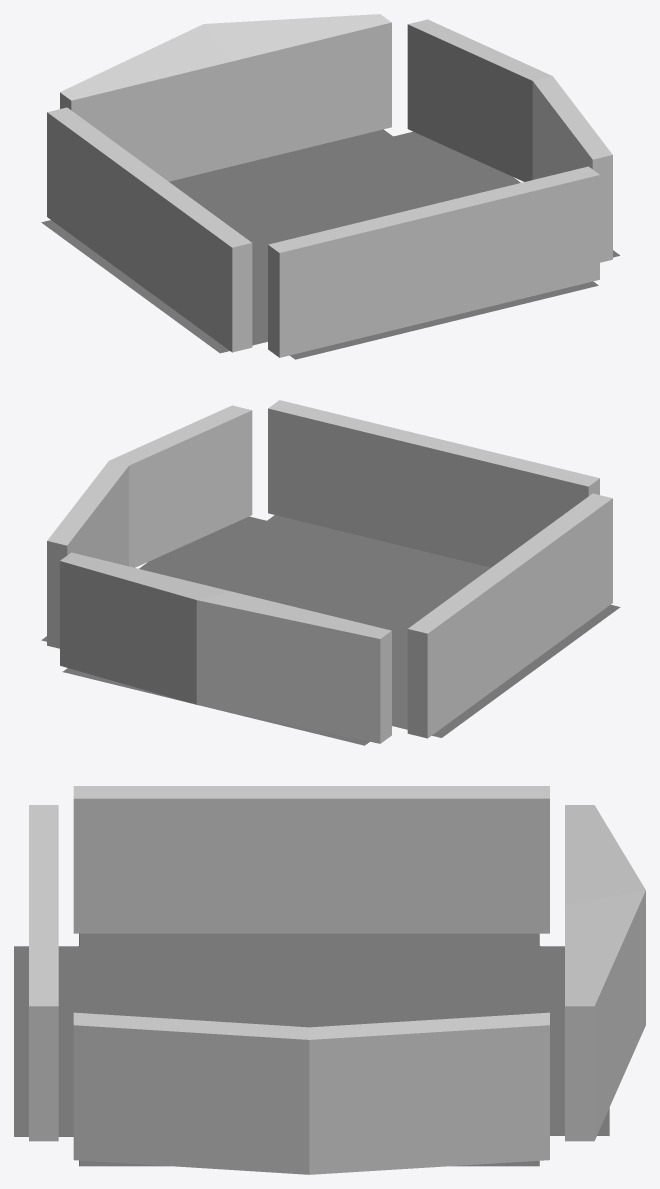
The model's file is room1.fbx.
The picture shows the model from 3 angles, top to bottom: view 1: azimuth 30°, elevation 25°; view 2: azimuth 150°, elevation 25°; view 3: azimuth 270°, elevation 25°; orthographic projection. The views are drawn at different scales.
Visible parts, largest first — view 1: WallS., WallN., Ground, WallW., WallE.; view 2: WallN., WallS., Ground, WallW., WallE.; view 3: WallE., WallW., Ground, WallN., WallS..
Boxes of the visible parts, x1=… form: WallS.: x1=268, y1=166, x2=599, y2=357; WallN.: x1=60, y1=14, x2=391, y2=181; Ground: x1=41, y1=129, x2=619, y2=359; WallW.: x1=47, y1=107, x2=252, y2=352; WallE.: x1=407, y1=19, x2=612, y2=262; WallN.: x1=60, y1=552, x2=391, y2=743; WallS.: x1=268, y1=400, x2=599, y2=567; Ground: x1=41, y1=515, x2=620, y2=745; WallW.: x1=407, y1=493, x2=612, y2=738; WallE.: x1=47, y1=405, x2=252, y2=648; WallE.: x1=73, y1=1012, x2=549, y2=1174; WallW.: x1=73, y1=786, x2=549, y2=933; Ground: x1=14, y1=933, x2=609, y2=1166; WallN.: x1=565, y1=805, x2=645, y2=1141; WallS.: x1=29, y1=805, x2=58, y2=1141.
Size of the model in its own units: 211 by 56.52 by 212.
